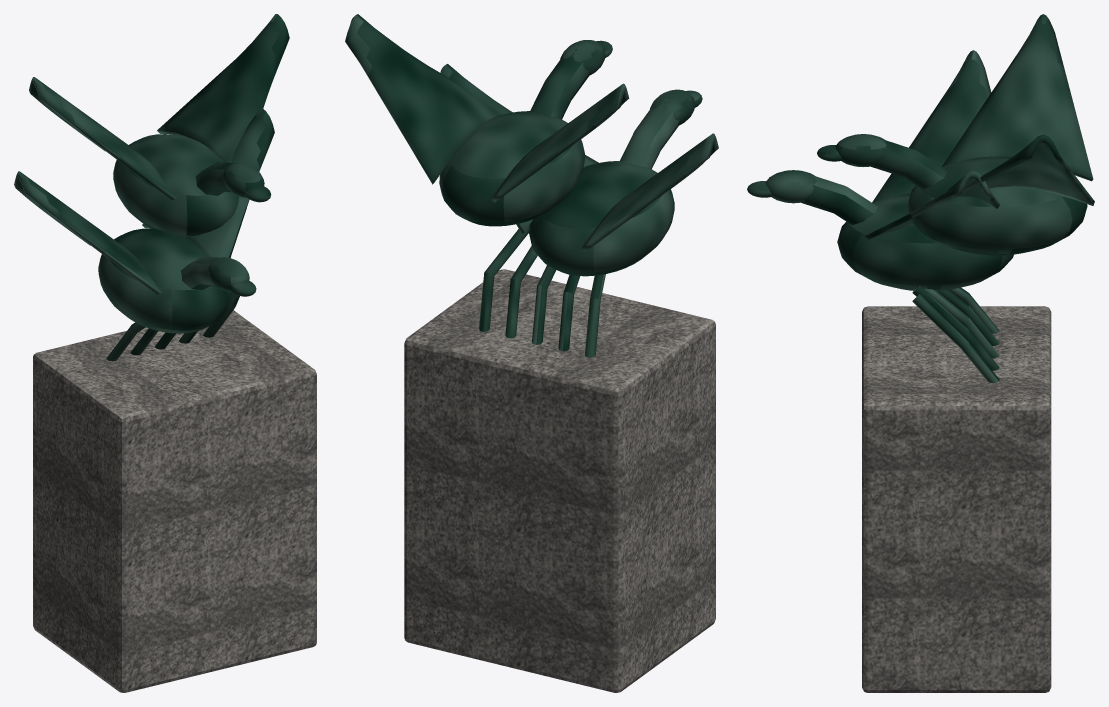
The model's file is flying-geese-baked.glb.
3 views of the same model, side by side, from view 1: azimuth 30°, elevation 25°; view 2: azimuth 150°, elevation 25°; view 3: azimuth 270°, elevation 25° (orthographic). The views are drawn at different scales.
Parts seen in each view (by area): view 1: flying-geese-study; view 2: flying-geese-study; view 3: flying-geese-study.
Part boxes in pixels (box(x1,y1,x2,y2)): flying-geese-study: box(14, 14, 316, 692); flying-geese-study: box(345, 14, 718, 692); flying-geese-study: box(747, 14, 1094, 692).
Size of the model in its own units: 1.24 by 2.21 by 1.2.
2 materials, 2 textured.
